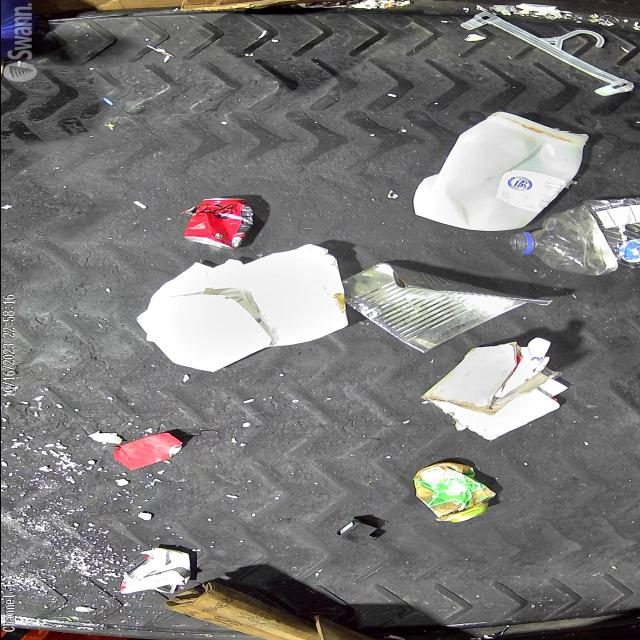can: (182, 198, 255, 250)
milk_jug: (411, 111, 588, 232)
plastic_bottle: (505, 196, 640, 276)
